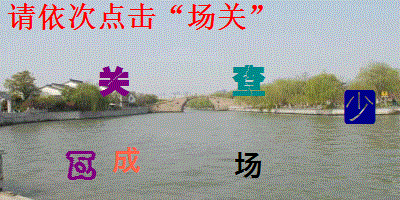result: (186, 1, 249, 33)
text: (341, 87, 379, 126), (230, 63, 267, 100), (96, 65, 133, 100), (63, 149, 99, 182), (113, 144, 144, 175), (233, 150, 262, 182)
